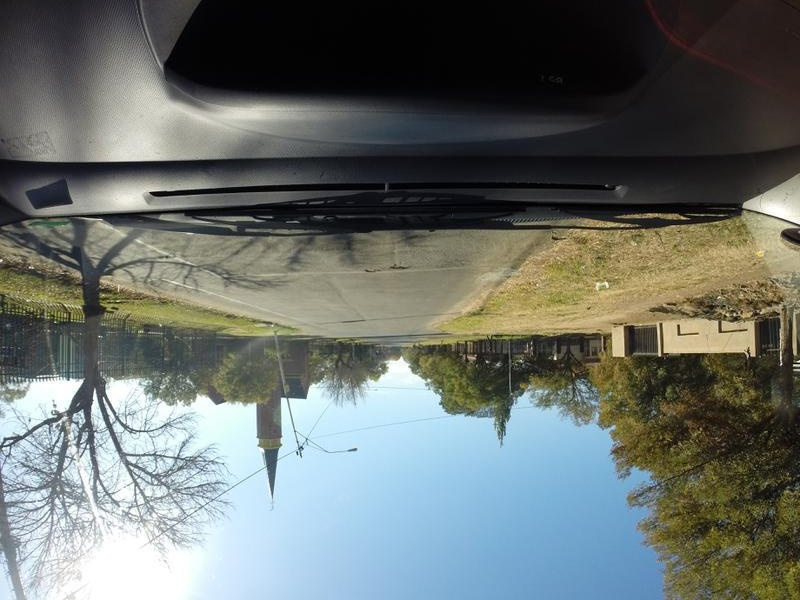pothole: (360, 251, 418, 279)
